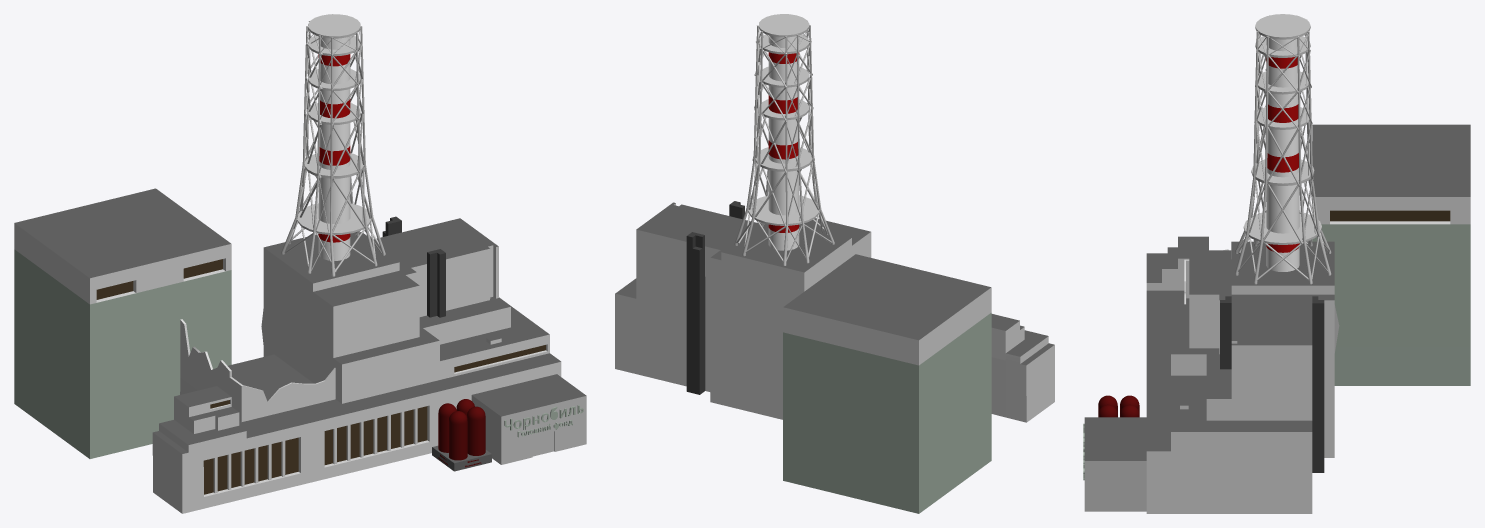
Rendered from Chernobyltest1.fbx.
3 renders of one model, left to right at view 1: azimuth 30°, elevation 25°; view 2: azimuth 150°, elevation 25°; view 3: azimuth 270°, elevation 25°, orthographic. The views are drawn at different scales.
Parts seen in each view (by area): view 1: pCube30; view 2: pCube30; view 3: pCube30.
Part boxes in pixels (<box>): pCube30: <box>14,14,586,513</box>; pCube30: <box>615,14,1054,513</box>; pCube30: <box>1083,14,1470,513</box>.
Bounding box in the file's own units: 85.78 × 81.09 × 70.14.
